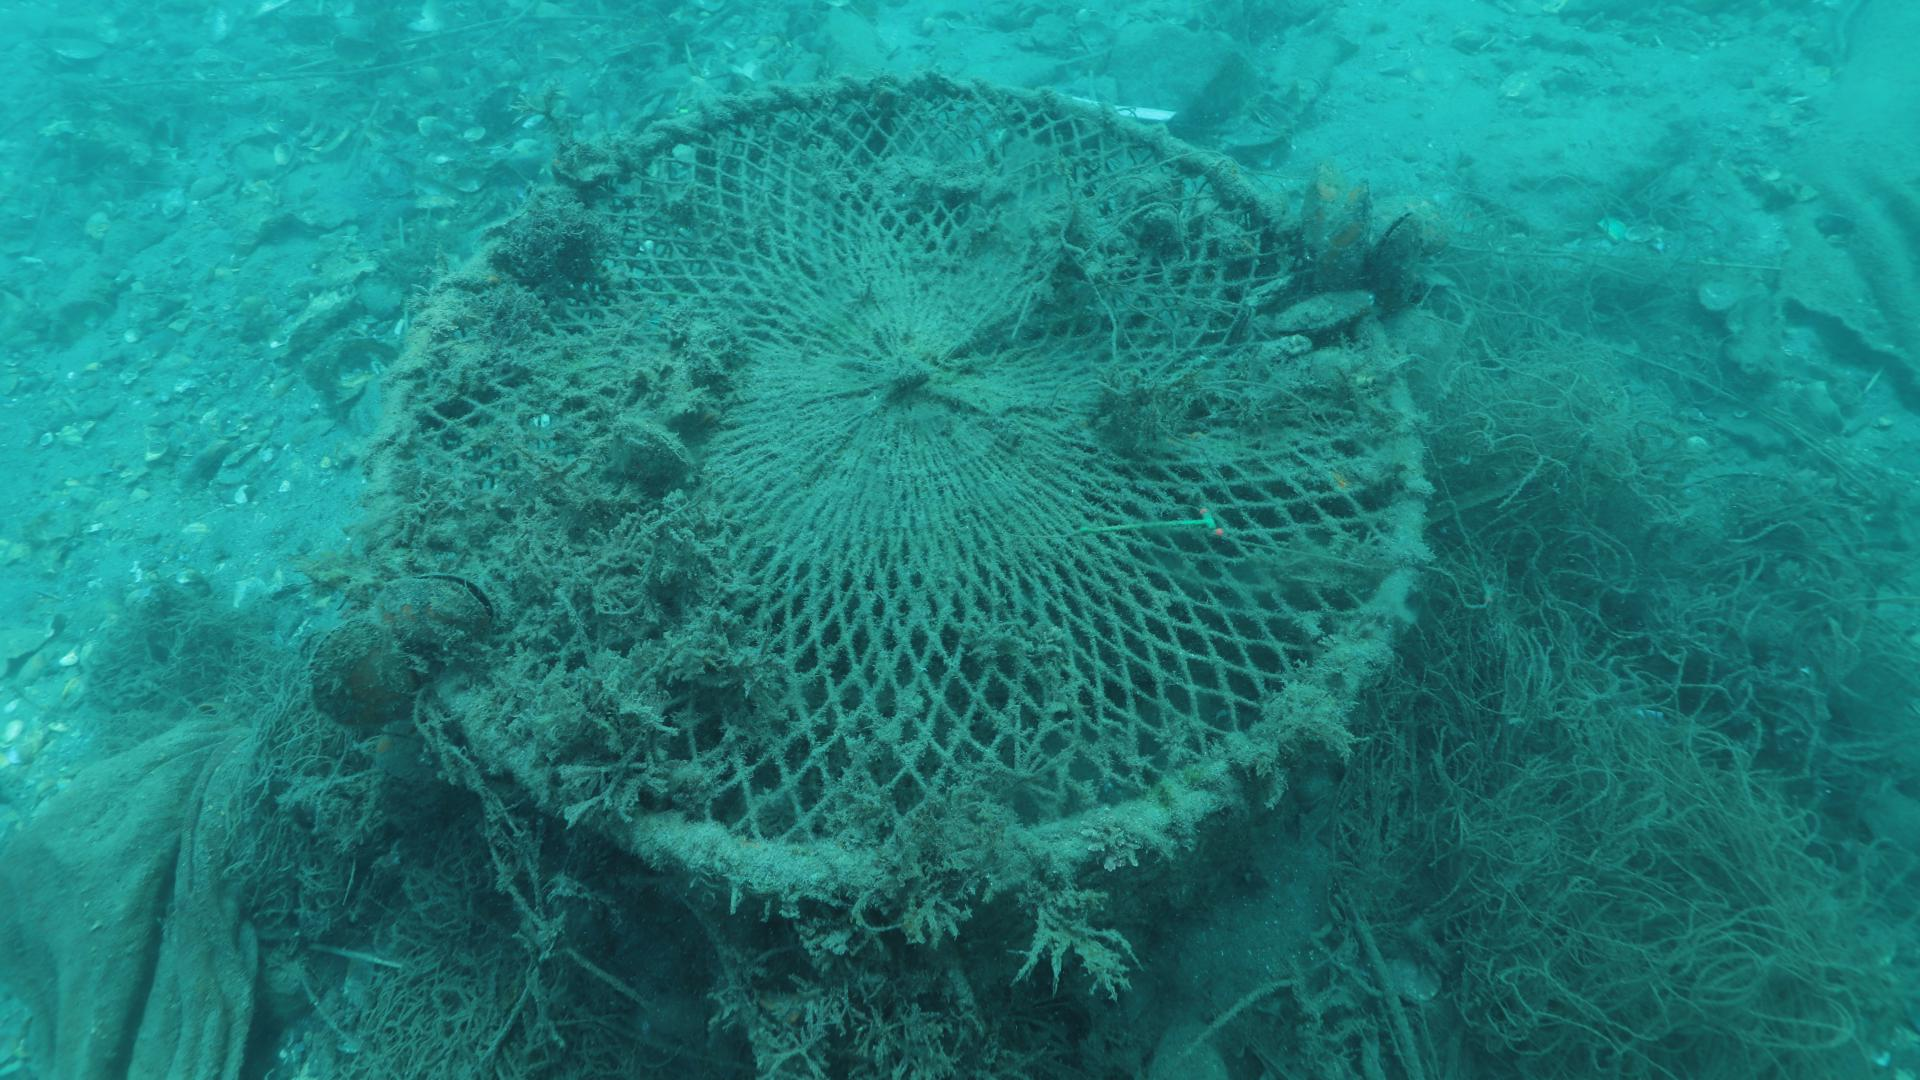circular fish trap: (357, 61, 1435, 934)
